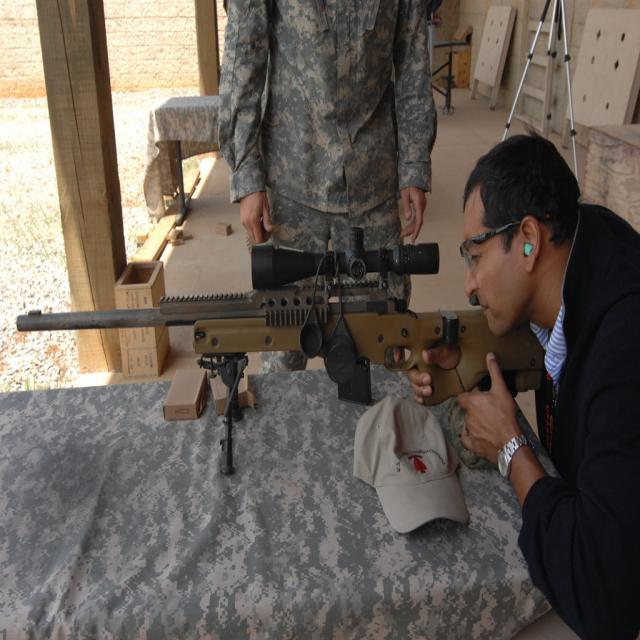weapon: (16, 227, 544, 470)
